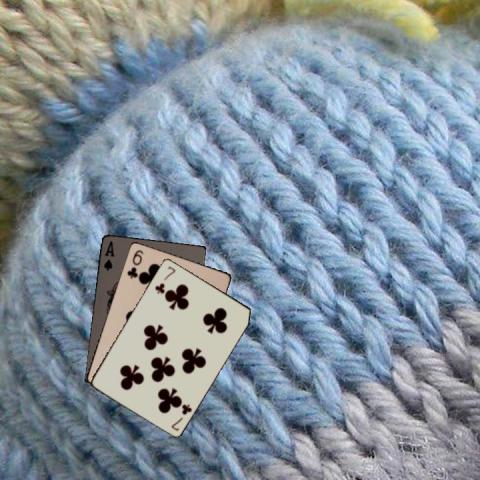6c: (124, 247, 145, 279)
7c: (152, 262, 177, 294), (168, 401, 193, 432)
As: (101, 237, 115, 272)
